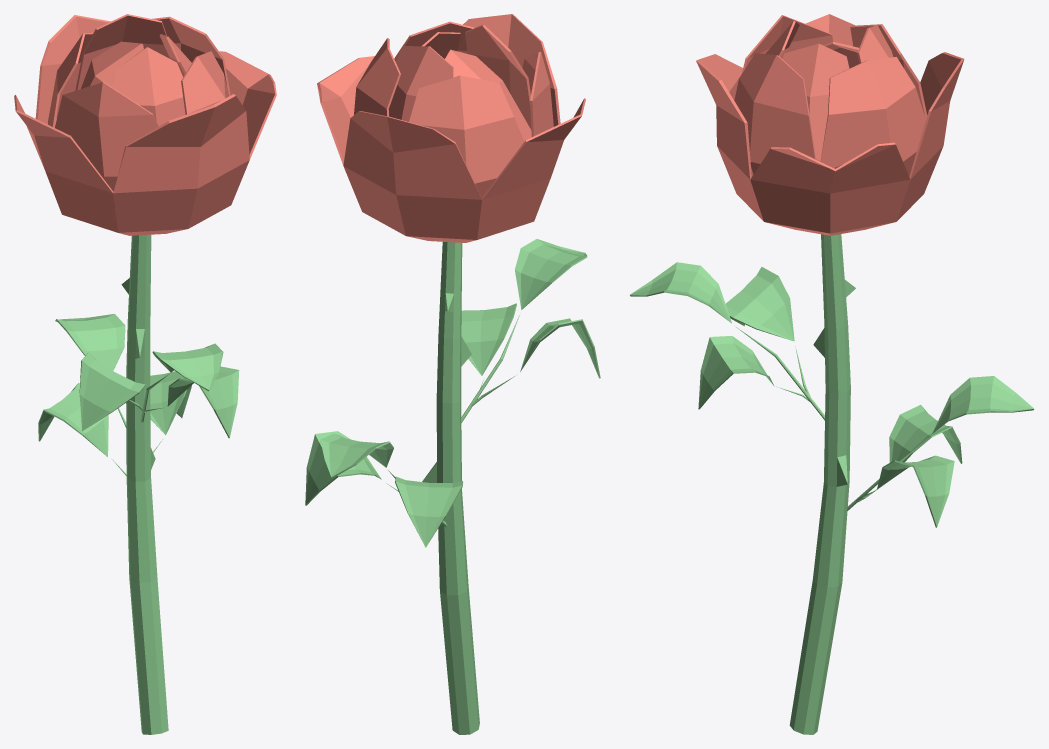
Rendered from Rose_01.gltf.
3 views of the same model, side by side, from view 1: azimuth 30°, elevation 25°; view 2: azimuth 150°, elevation 25°; view 3: azimuth 270°, elevation 25° (orthographic).
Visible parts, largest first — view 1: node-0; view 2: node-0; view 3: node-0.
Boxes of the visible parts, x1=… form: node-0: x1=14, y1=14, x2=276, y2=734; node-0: x1=305, y1=14, x2=600, y2=734; node-0: x1=630, y1=14, x2=1033, y2=734.
Bounding box in the file's own units: 3.93 × 10.11 × 5.26.
